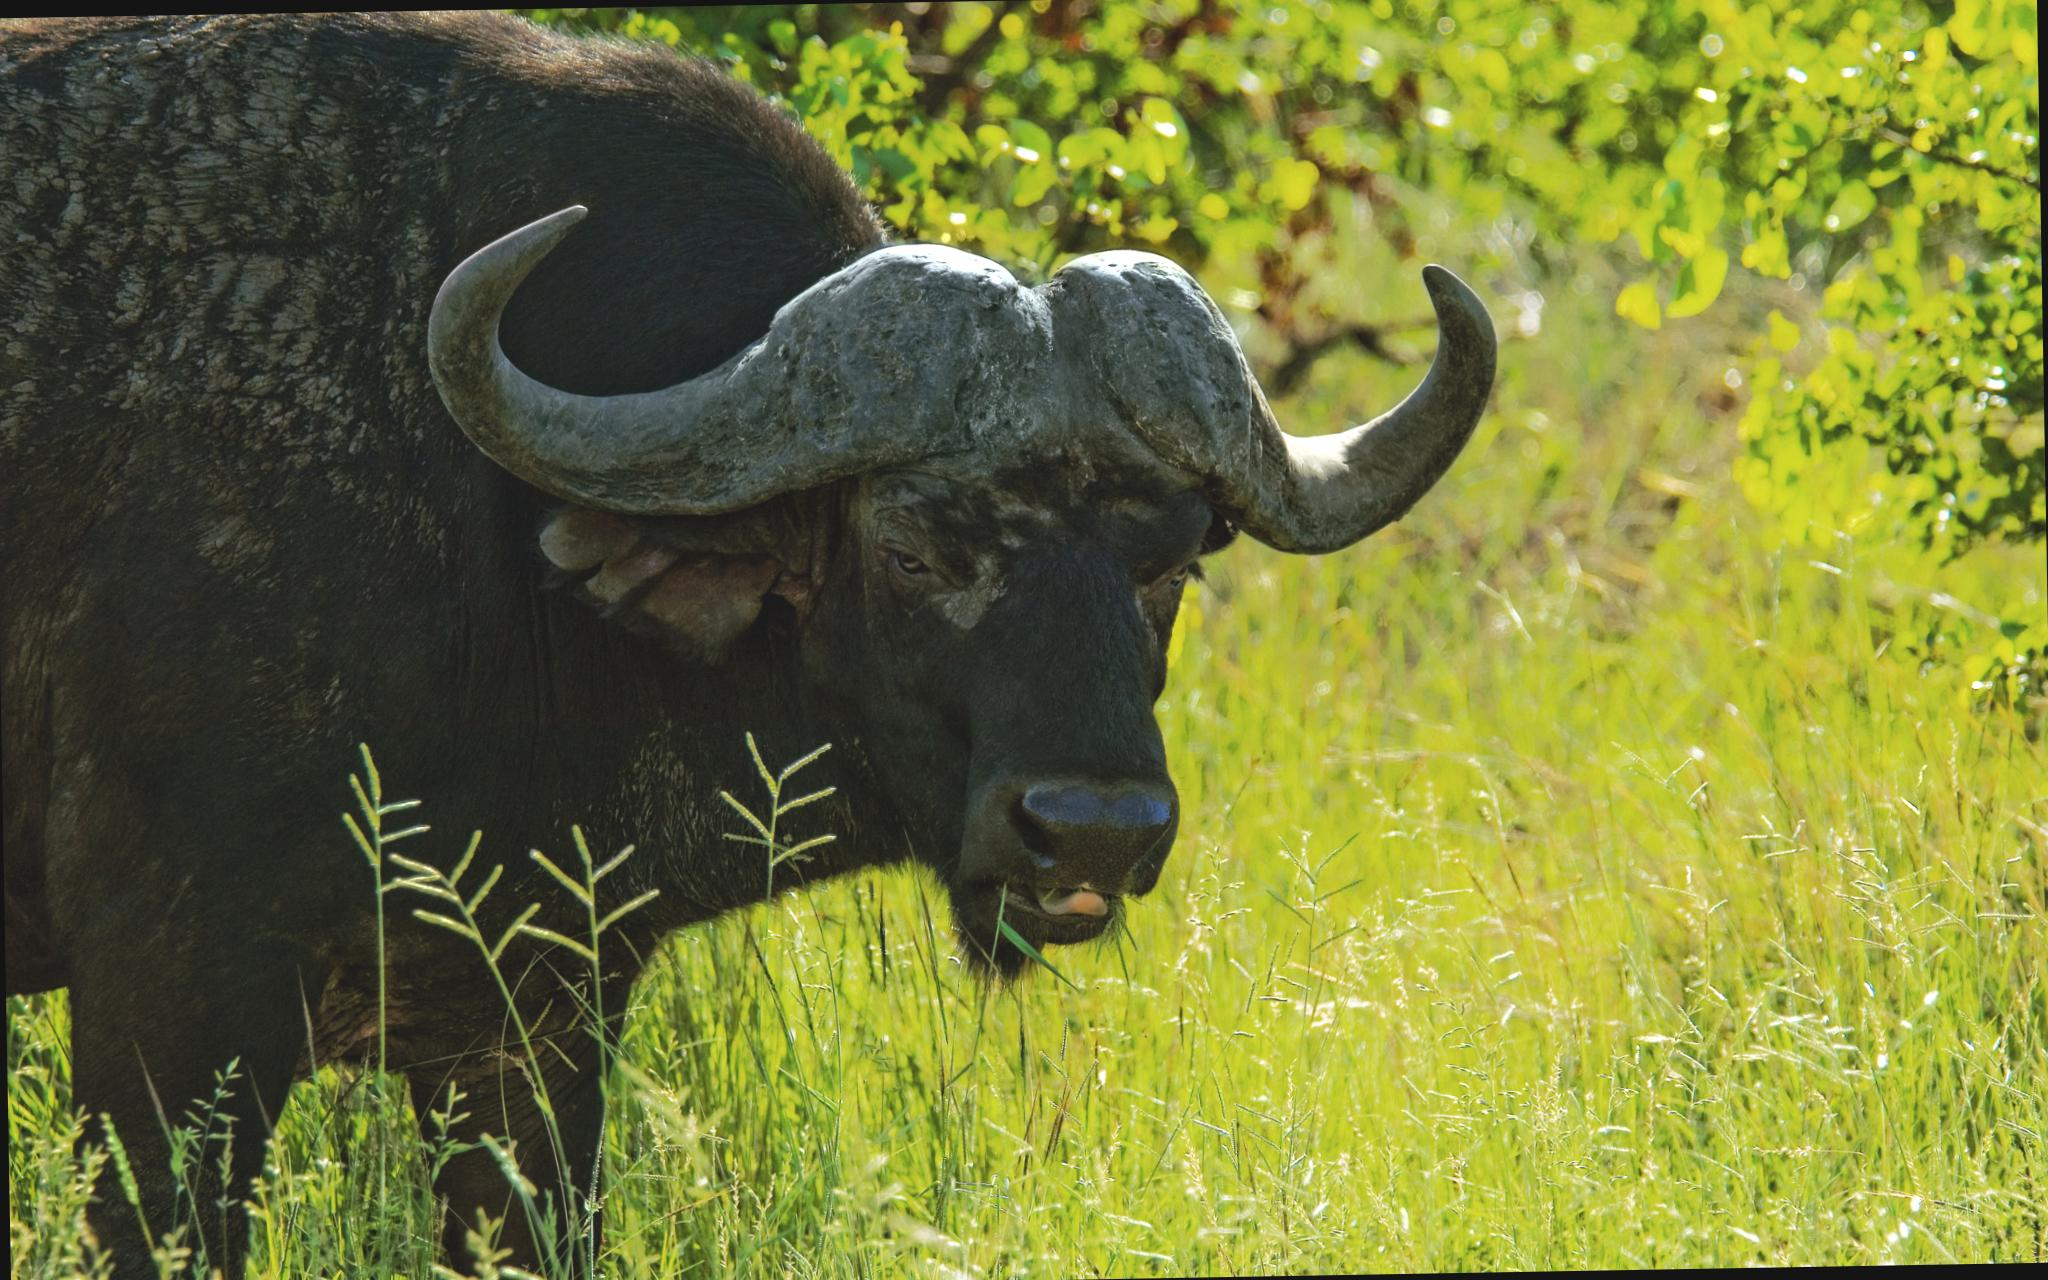Buffalo: (0, 0, 1697, 1206)
